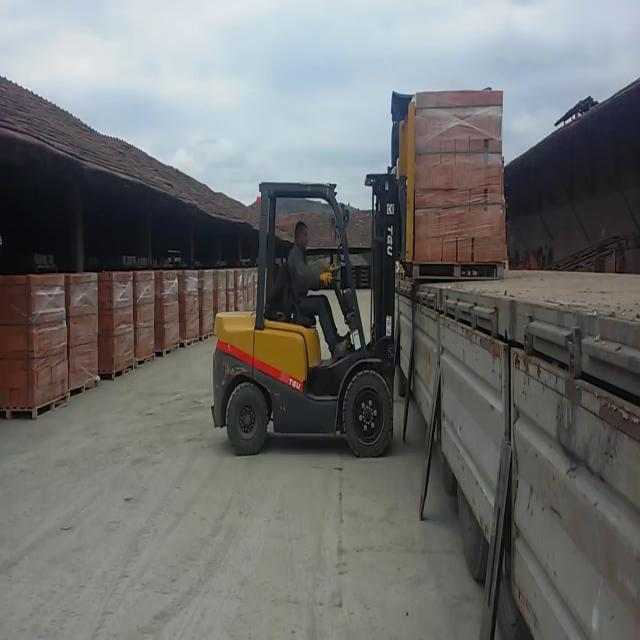Chariot elevateur: (203, 165, 404, 464)
